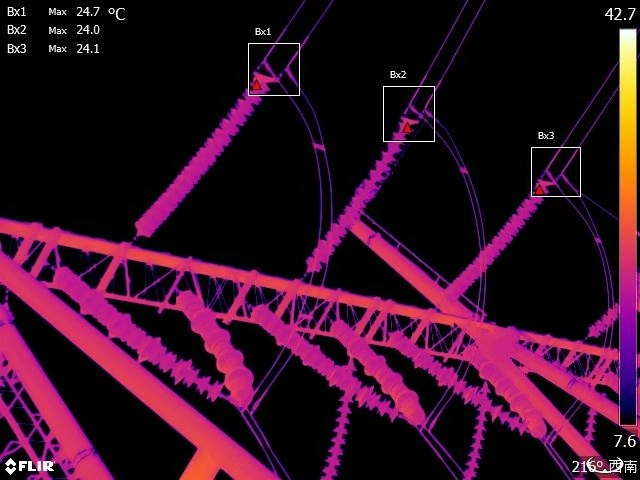insulator: (50, 265, 223, 399), (138, 77, 276, 238), (298, 109, 418, 269), (253, 306, 402, 421), (442, 173, 554, 298), (396, 328, 527, 432), (328, 313, 425, 426), (179, 286, 257, 406), (465, 338, 547, 436), (322, 362, 362, 478), (462, 381, 490, 480), (573, 401, 596, 480), (587, 305, 617, 340)
switch: (260, 52, 297, 80), (541, 162, 570, 185), (405, 99, 432, 122), (414, 418, 438, 440), (235, 404, 259, 421)
